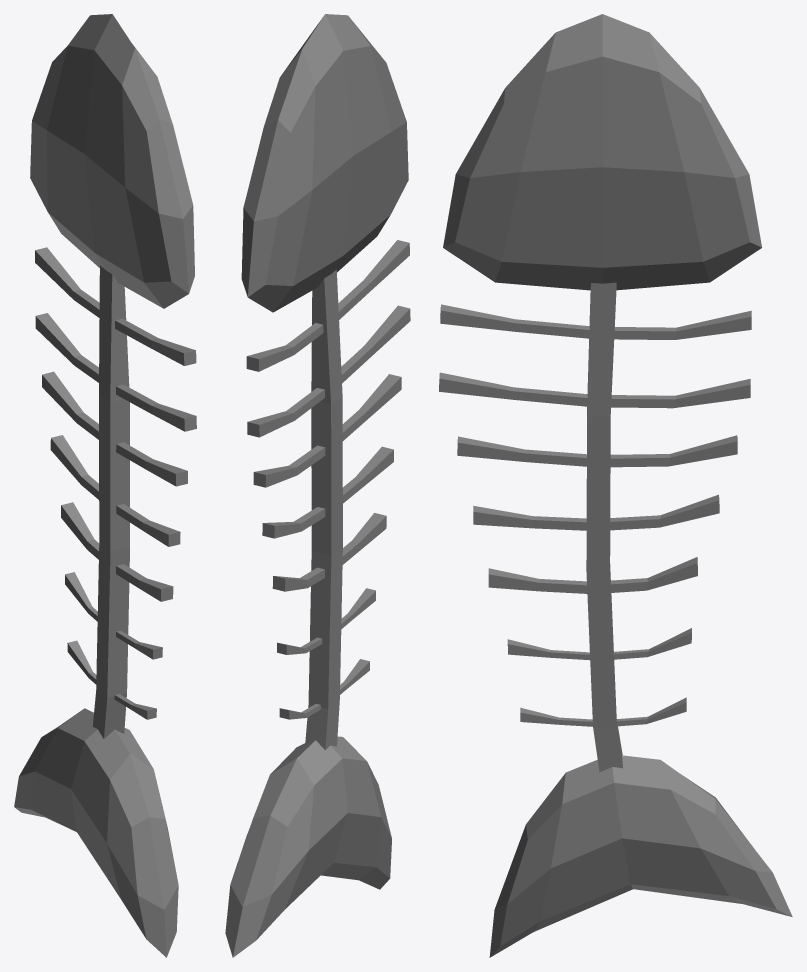
The model's file is fish.fbx.
3 views of the same model, side by side, from view 1: azimuth 30°, elevation 25°; view 2: azimuth 150°, elevation 25°; view 3: azimuth 270°, elevation 25° (orthographic). The views are drawn at different scales.
Visible parts, largest first — view 1: Cube.002; view 2: Cube.002; view 3: Cube.002.
Part boxes in pixels (x1=…): Cube.002: x1=14, y1=14, x2=196, y2=957; Cube.002: x1=225, y1=14, x2=410, y2=957; Cube.002: x1=439, y1=14, x2=792, y2=957.
Size of the model in its own units: 34.46 by 465 by 158.
